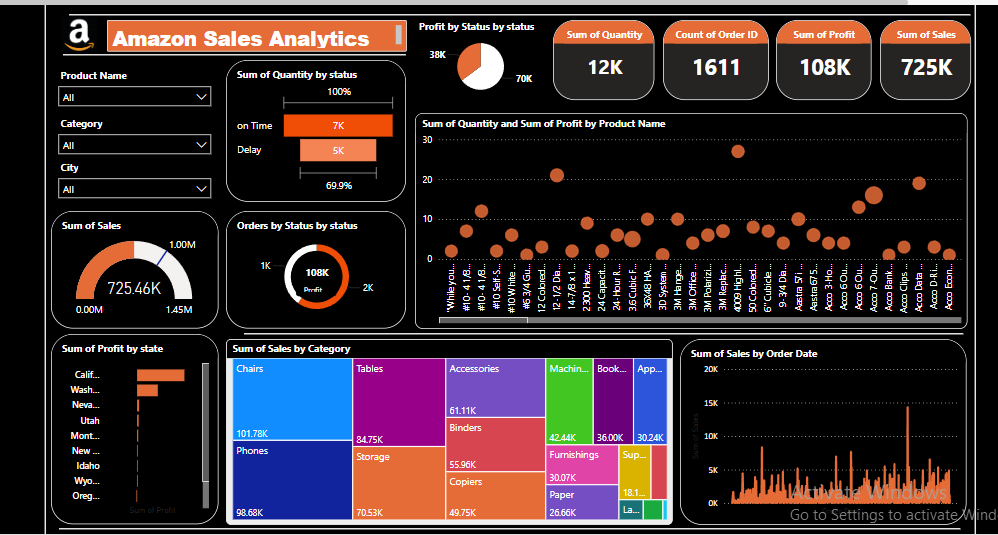

The dashboard page shown, as its layout file describes it:
{"tool":"powerbi","page":{"name":"Page 1","canvas":[1280,720],"ordinal":0},"visuals":[{"type":"card","title":"Sum of Sales","fields":{"Values":["Sum(Walmart (2).Sales)"]},"box":[1143.4,20.2,123.8,109.4],"z":0},{"type":"card","title":"Sum of Profit","fields":{"Values":["Sum(Walmart (2).Profit)"]},"box":[1002.2,20.2,129.6,109.4],"z":1000},{"type":"card","title":"Count of Order ID","fields":{"Values":["Count(Walmart (2).Order ID)"]},"box":[848.2,20.2,144,109.4],"z":2000},{"type":"lineChart","fields":{"Y":["Sum(Walmart (2).Sales)"],"Category":["Walmart (2).Order Date"]},"box":[871.2,455,390.2,253.4],"z":3000},{"type":"treemap","fields":{"Values":["Sum(Walmart (2).Sales)"],"Group":["Walmart (2).Category"]},"box":[253.4,455,607.7,253.4],"z":4000},{"type":"barChart","fields":{"Y":["Sum(Walmart (2).Profit)"],"Category":["Walmart (2).state"]},"box":[14.4,447.8,227.5,259.2],"z":5000},{"type":"gauge","fields":{"Y":["Sum(Walmart (2).Sales)"]},"box":[14.4,280.8,227.5,159.8],"z":6000},{"type":"textbox","box":[90.7,20.2,407.5,43.2],"z":7000},{"type":"scatterChart","fields":{"Y":["Sum(Walmart (2).Quantity)"],"X":["Walmart (2).Product Name"],"Size":["Sum(Walmart (2).Profit)"]},"box":[509.8,146.9,751.7,293.8],"z":9000},{"type":"card","title":"Sum of Quantity","fields":{"Values":["Sum(Walmart (2).Quantity)"]},"box":[698.4,20.2,138.2,109.4],"z":10000},{"type":"image","box":[14.4,11.5,76.3,59],"z":11000},{"type":"funnel","fields":{"Category":["Walmart (2).status"],"Y":["Sum(Walmart (2).Quantity)"]},"box":[253.4,74.9,244.8,193],"z":11001},{"type":"donutChart","fields":{"Y":["Walmart (2).Orders by Status"],"Category":["Walmart (2).status"]},"box":[253.4,280.8,244.8,159.8],"z":11002},{"type":"pieChart","fields":{"Category":["Walmart (2).status"],"Y":["Walmart (2).Profit by Status"]},"box":[509.8,20.2,178.6,109.4],"z":11003},{"type":"card","title":"profit by status","fields":{"Values":["Walmart (2).Profit by Status"]},"box":[348.5,348.5,54.7,47.5],"z":11004},{"type":"shape","box":[25.9,707,1226.9,13],"z":11005},{"type":"shape","box":[31.7,61.9,466.6,13],"z":11006},{"type":"shape","box":[277.9,440.6,979.2,13],"z":11007},{"type":"shape","box":[0,0,14.4,720],"z":11008},{"type":"shape","box":[1265.8,0,14.4,720],"z":11009},{"type":"shape","box":[38.9,7.2,1226.9,13],"z":11010},{"type":"slicer","fields":{"Values":["Walmart (2).Category"]},"box":[14.4,146.9,227.5,60.5],"z":11011},{"type":"slicer","fields":{"Values":["Walmart (2).Product Name","Walmart (2).city"]},"box":[14.4,207.4,227.5,60.5],"z":11012},{"type":"slicer","fields":{"Values":["Walmart (2).Product Name"]},"box":[14.4,82.1,227.5,64.8],"z":11013}]}

Visuals, with their boxes in screenshot pixels (x1, y1, x2, y2):
"Sum of Sales" card: detection(875, 15, 966, 95)
"Sum of Profit" card: detection(771, 15, 866, 95)
"Count of Order ID" card: detection(658, 15, 764, 95)
lineChart - Sum(Walmart (2).Sales) x Walmart (2).Order Date: detection(675, 334, 961, 519)
treemap - Sum(Walmart (2).Sales) x Walmart (2).Category: detection(222, 334, 668, 519)
barChart - Sum(Walmart (2).Profit) x Walmart (2).state: detection(47, 328, 214, 518)
gauge - Sum(Walmart (2).Sales): detection(47, 206, 214, 323)
textbox: detection(103, 15, 402, 46)
scatterChart - Sum(Walmart (2).Quantity) x Walmart (2).Product Name: detection(410, 108, 961, 323)
"Sum of Quantity" card: detection(549, 15, 650, 95)
image: detection(47, 8, 103, 52)
funnel - Walmart (2).status x Sum(Walmart (2).Quantity): detection(222, 55, 402, 196)
donutChart - Walmart (2).Orders by Status x Walmart (2).status: detection(222, 206, 402, 323)
pieChart - Walmart (2).status x Walmart (2).Profit by Status: detection(410, 15, 541, 95)
"profit by status" card: detection(292, 256, 332, 290)
shape: detection(55, 518, 955, 528)
shape: detection(60, 45, 402, 55)
shape: detection(240, 323, 958, 333)
shape: detection(36, 0, 47, 528)
shape: detection(965, 0, 975, 528)
shape: detection(65, 5, 965, 15)
slicer - Walmart (2).Category: detection(47, 108, 214, 152)
slicer - Walmart (2).Product Name x Walmart (2).city: detection(47, 152, 214, 196)
slicer - Walmart (2).Product Name: detection(47, 60, 214, 108)
